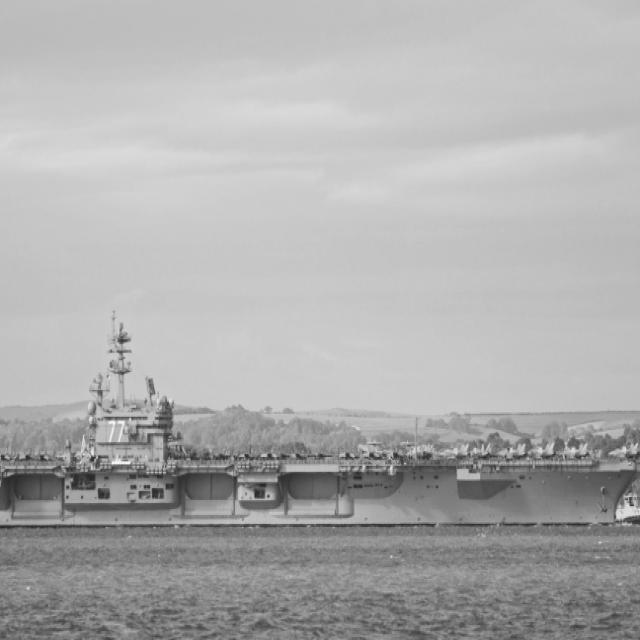Portanaves: (1, 287, 640, 532)
